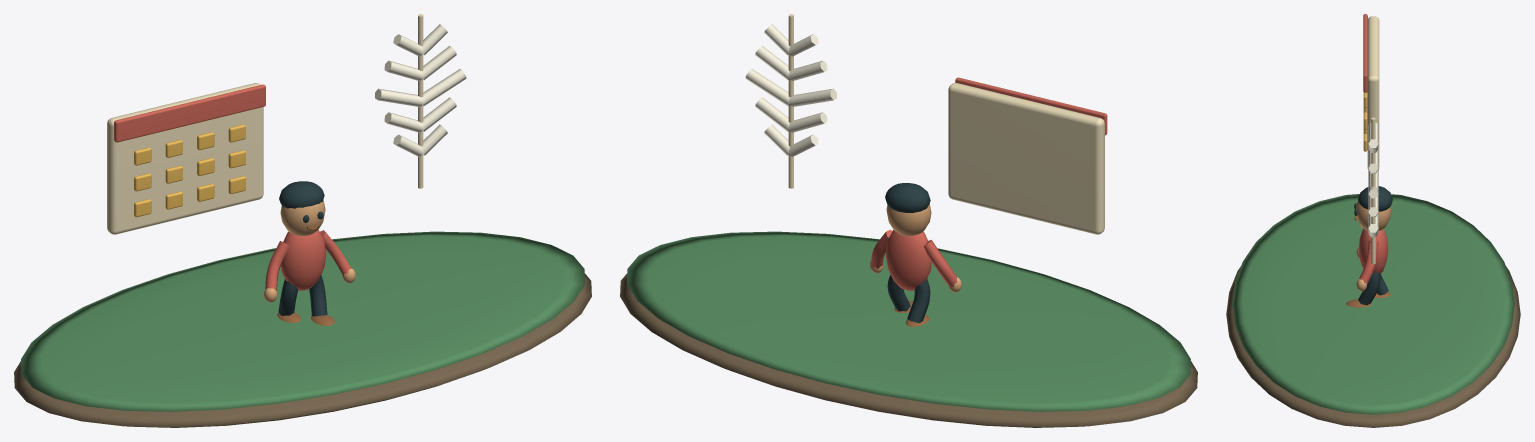
The model's file is complete-first-young-light-year.glb.
The picture shows the model from 3 angles, left to right: view 1: azimuth 30°, elevation 25°; view 2: azimuth 150°, elevation 25°; view 3: azimuth 270°, elevation 25°; orthographic projection. The views are drawn at different scales.
Visible parts, largest first — view 1: complete-first-young-light-year_surface_01, complete-first-young-light-year_surface_02, complete-first-young-light-year_surface_00, complete-first-young-light-year_surface_03, complete-first-young-light-year_surface_05, complete-first-young-light-year_surface_04, complete-first-young-light-year_surface_07, complete-first-young-light-year_surface_06; view 2: complete-first-young-light-year_surface_01, complete-first-young-light-year_surface_02, complete-first-young-light-year_surface_00, complete-first-young-light-year_surface_05, complete-first-young-light-year_surface_03, complete-first-young-light-year_surface_07, complete-first-young-light-year_surface_06; view 3: complete-first-young-light-year_surface_01, complete-first-young-light-year_surface_00, complete-first-young-light-year_surface_02, complete-first-young-light-year_surface_03, complete-first-young-light-year_surface_05, complete-first-young-light-year_surface_07, complete-first-young-light-year_surface_06, complete-first-young-light-year_surface_04.
Boxes of the visible parts, x1,y1,x2,y2 form: complete-first-young-light-year_surface_01: (21, 231, 584, 411); complete-first-young-light-year_surface_02: (107, 14, 423, 234); complete-first-young-light-year_surface_00: (14, 273, 591, 427); complete-first-young-light-year_surface_03: (114, 84, 351, 290); complete-first-young-light-year_surface_05: (375, 24, 466, 156); complete-first-young-light-year_surface_04: (134, 124, 245, 217); complete-first-young-light-year_surface_07: (278, 181, 327, 316); complete-first-young-light-year_surface_06: (264, 200, 355, 302); complete-first-young-light-year_surface_01: (627, 231, 1190, 411); complete-first-young-light-year_surface_02: (788, 14, 1104, 234); complete-first-young-light-year_surface_00: (620, 273, 1197, 427); complete-first-young-light-year_surface_05: (745, 24, 836, 156); complete-first-young-light-year_surface_03: (871, 77, 1107, 290); complete-first-young-light-year_surface_07: (885, 183, 930, 323); complete-first-young-light-year_surface_06: (870, 203, 961, 292); complete-first-young-light-year_surface_01: (1232, 194, 1514, 414); complete-first-young-light-year_surface_00: (1226, 266, 1520, 427); complete-first-young-light-year_surface_02: (1367, 16, 1379, 264); complete-first-young-light-year_surface_03: (1358, 14, 1388, 284); complete-first-young-light-year_surface_05: (1368, 123, 1378, 237); complete-first-young-light-year_surface_07: (1354, 186, 1392, 305); complete-first-young-light-year_surface_06: (1356, 200, 1391, 291); complete-first-young-light-year_surface_04: (1363, 92, 1367, 151).
Bounding box in the file's own units: 4.56 × 2.42 × 2.5.
